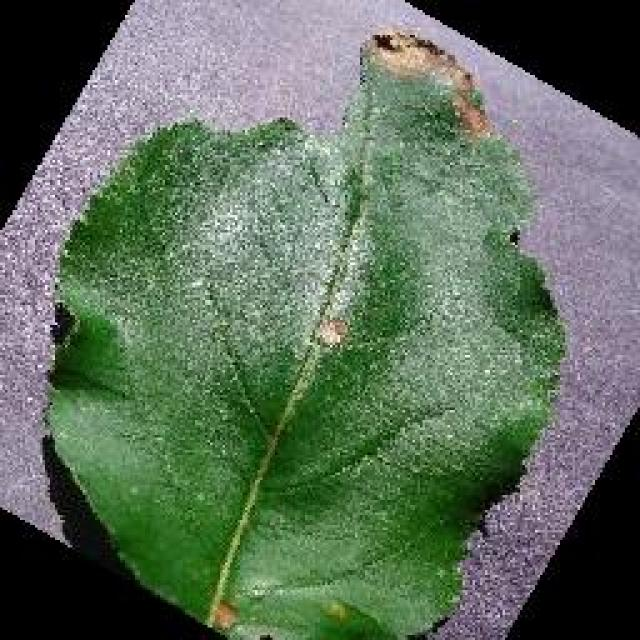Black_rot: (42, 28, 568, 638)
